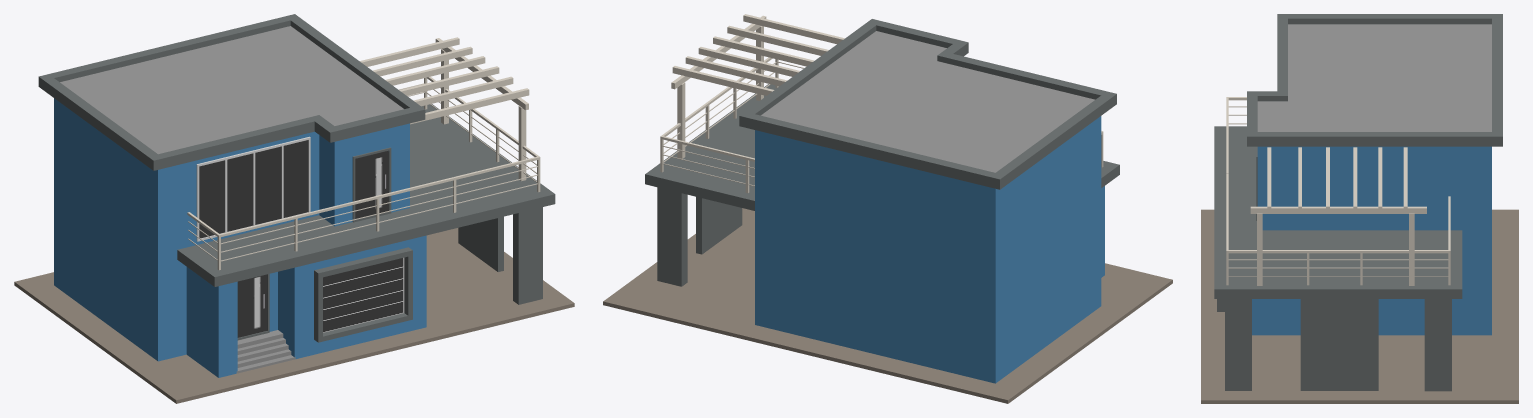
Rendered from building-house-01-color01.glb.
The picture shows the model from 3 angles, left to right: view 1: azimuth 30°, elevation 25°; view 2: azimuth 150°, elevation 25°; view 3: azimuth 270°, elevation 25°; orthographic projection. The views are drawn at different scales.
Parts seen in each view (by area): view 1: model; view 2: model; view 3: model.
Part boxes in pixels (box(x1,y1,x2,y2)): model: box(14, 14, 574, 403); model: box(603, 14, 1172, 403); model: box(1201, 14, 1518, 403).
Size of the model in its own units: 17.89 by 9.05 by 12.6.
1 material, 1 textured.
